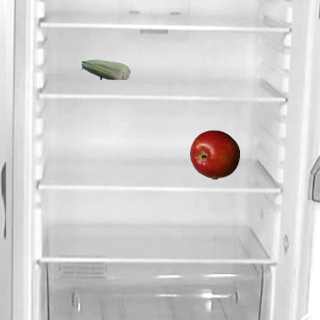Apple Braeburn: (189, 129, 239, 179)
Corn Husk: (80, 44, 130, 94)
